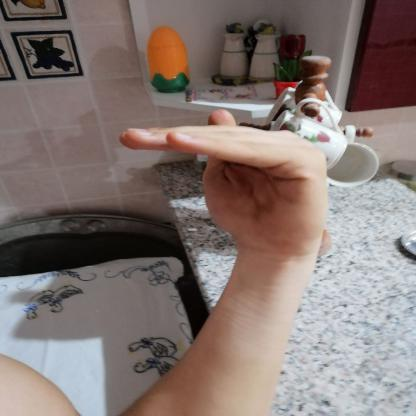KHAA: (104, 100, 352, 276)
